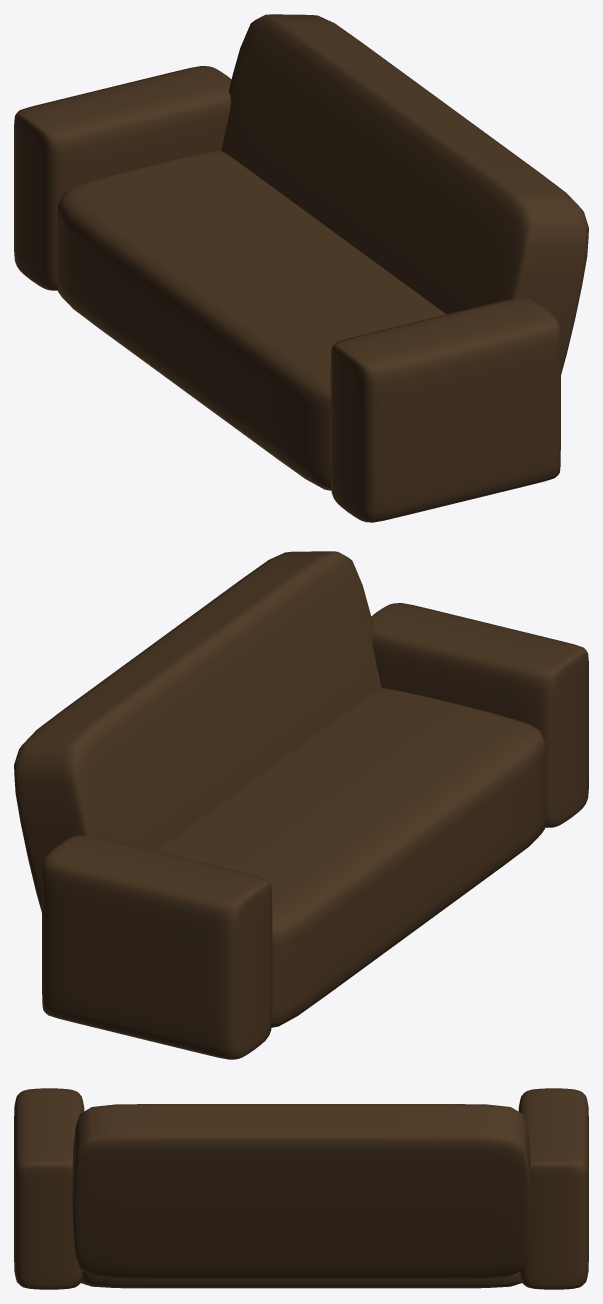
File: Sofá MD FBX.fbx
The picture shows the model from 3 angles, top to bottom: view 1: azimuth 30°, elevation 25°; view 2: azimuth 150°, elevation 25°; view 3: azimuth 270°, elevation 25°; orthographic projection. The views are drawn at different scales.
Visible parts, largest first — view 1: Cube, Cube.001, Cubo, Cubo.001; view 2: Cube, Cube.001, Cubo.001, Cubo; view 3: Cube.001, Cubo, Cubo.001, Cube.
Part boxes in pixels (x1,y1,x2,y2): Cube: (57, 151, 445, 490); Cube.001: (221, 14, 588, 374); Cubo: (330, 298, 560, 522); Cubo.001: (14, 66, 231, 290); Cube: (157, 688, 545, 1027); Cube.001: (14, 551, 381, 912); Cubo.001: (42, 835, 272, 1059); Cubo: (371, 603, 588, 827); Cube.001: (72, 1104, 530, 1279); Cubo: (14, 1088, 84, 1289); Cubo.001: (518, 1088, 588, 1289); Cube: (81, 1271, 521, 1288).
Bounding box in the file's own units: 213 × 184 × 496.
